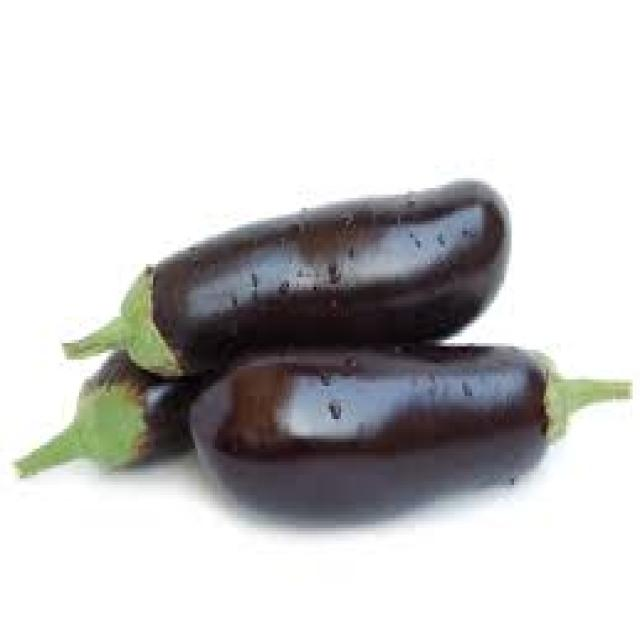eggplant: (134, 178, 506, 373), (185, 343, 566, 521)
